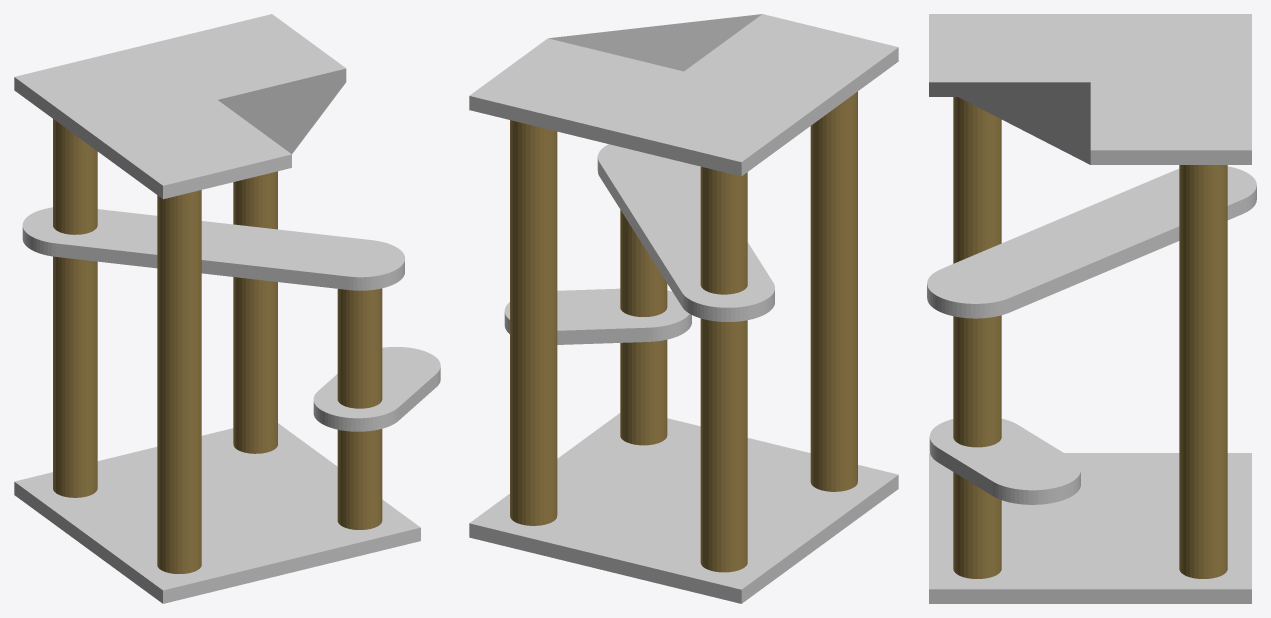
Rendered from cat tower5.fbx.
3 renders of one model, left to right at view 1: azimuth 30°, elevation 25°; view 2: azimuth 150°, elevation 25°; view 3: azimuth 270°, elevation 25°, orthographic. The views are drawn at different scales.
Parts seen in each view (by area): view 1: 平面.001, 平面, 円柱.003, 平面.003, 円柱.002, 円柱, 円柱.001, 平面.002; view 2: 平面.001, 平面, 円柱, 円柱.003, 円柱.002, 平面.003, 円柱.001, 平面.002; view 3: 平面.001, 平面, 円柱, 平面.003, 円柱.001, 平面.002, 円柱.003.
Part boxes in pixels (bbox=[...]): 平面.001: bbox=[14, 14, 346, 199]; 平面: bbox=[14, 423, 420, 603]; 円柱.003: bbox=[157, 190, 201, 573]; 平面.003: bbox=[22, 207, 404, 290]; 円柱.002: bbox=[53, 119, 97, 497]; 円柱: bbox=[233, 171, 277, 453]; 円柱.001: bbox=[337, 288, 382, 529]; 平面.002: bbox=[313, 347, 440, 431]; 平面.001: bbox=[469, 14, 898, 176]; 平面: bbox=[469, 413, 898, 603]; 円柱: bbox=[510, 120, 557, 525]; 円柱.003: bbox=[810, 91, 857, 491]; 円柱.002: bbox=[700, 166, 747, 572]; 平面.003: bbox=[597, 144, 774, 321]; 円柱.001: bbox=[620, 210, 667, 445]; 平面.002: bbox=[504, 288, 691, 344]; 平面.001: bbox=[929, 14, 1251, 164]; 平面: bbox=[929, 453, 1251, 603]; 円柱: bbox=[1179, 165, 1227, 578]; 平面.003: bbox=[927, 166, 1256, 318]; 円柱.001: bbox=[953, 315, 1001, 578]; 平面.002: bbox=[929, 418, 1080, 504]; 円柱.003: bbox=[953, 97, 1001, 263].
Size of the model in its own units: 252 by 310 by 204.
